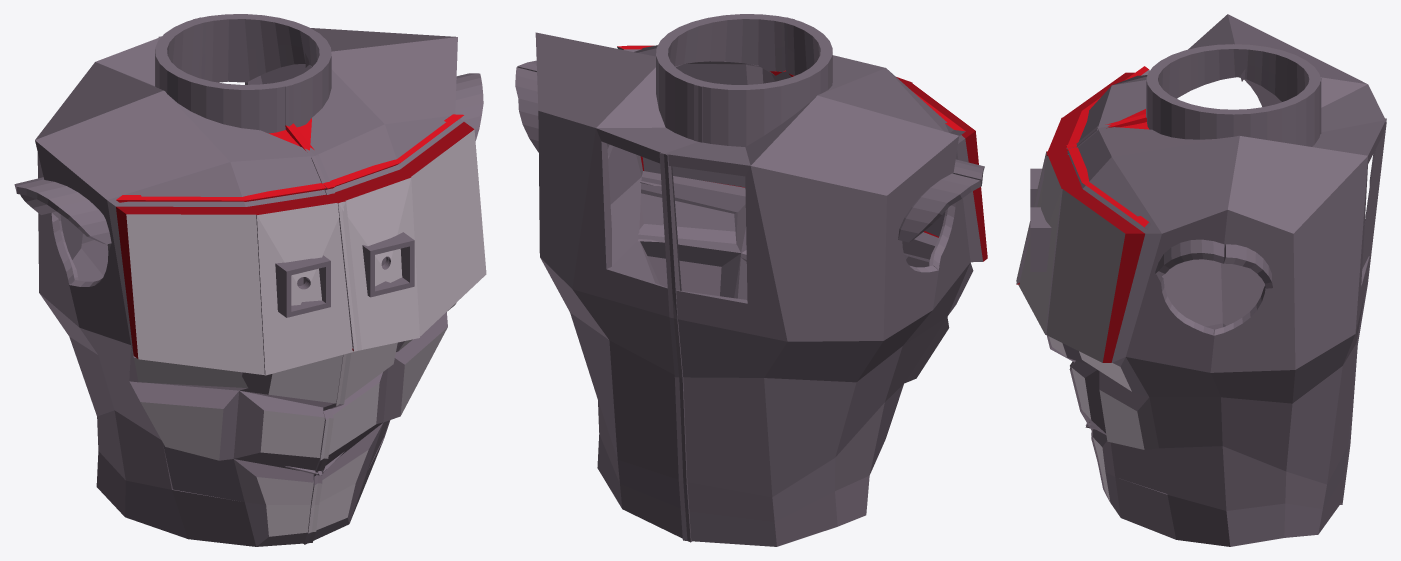
Rendered from BodyArmor1.fbx.
3 renders of one model, left to right at view 1: azimuth 30°, elevation 25°; view 2: azimuth 150°, elevation 25°; view 3: azimuth 270°, elevation 25°, orthographic. The views are drawn at different scales.
Visible parts, largest first — view 1: Cylinder; view 2: Cylinder; view 3: Cylinder.
Part boxes in pixels (x1=…): Cylinder: x1=14, y1=14, x2=486, y2=546; Cylinder: x1=515, y1=14, x2=987, y2=546; Cylinder: x1=1016, y1=14, x2=1386, y2=546.
Bounding box in the file's own units: 377 × 347 × 275.
